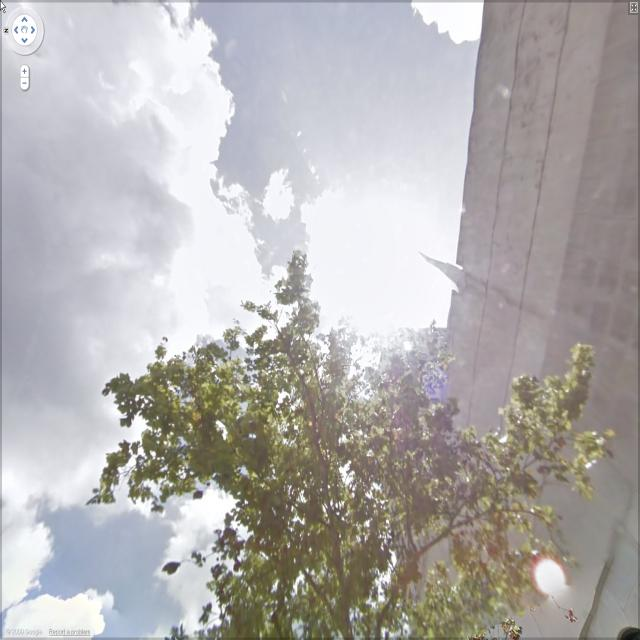b_2: (428, 2, 640, 627)
